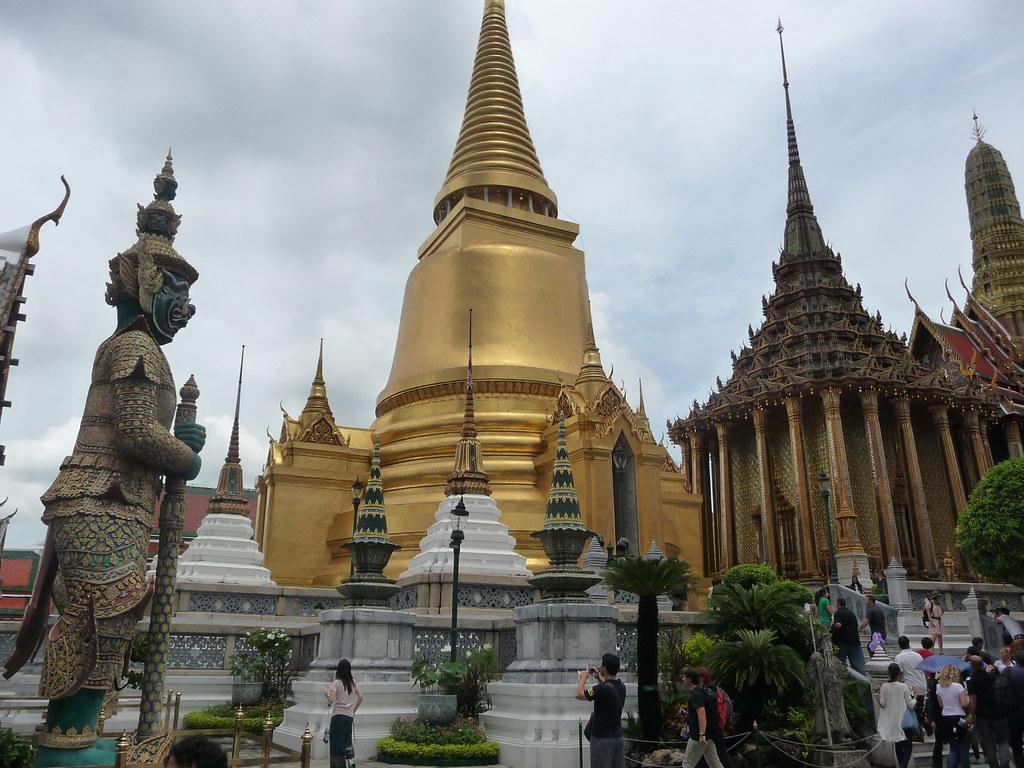temple: (251, 1, 713, 611), (663, 13, 1023, 616)
